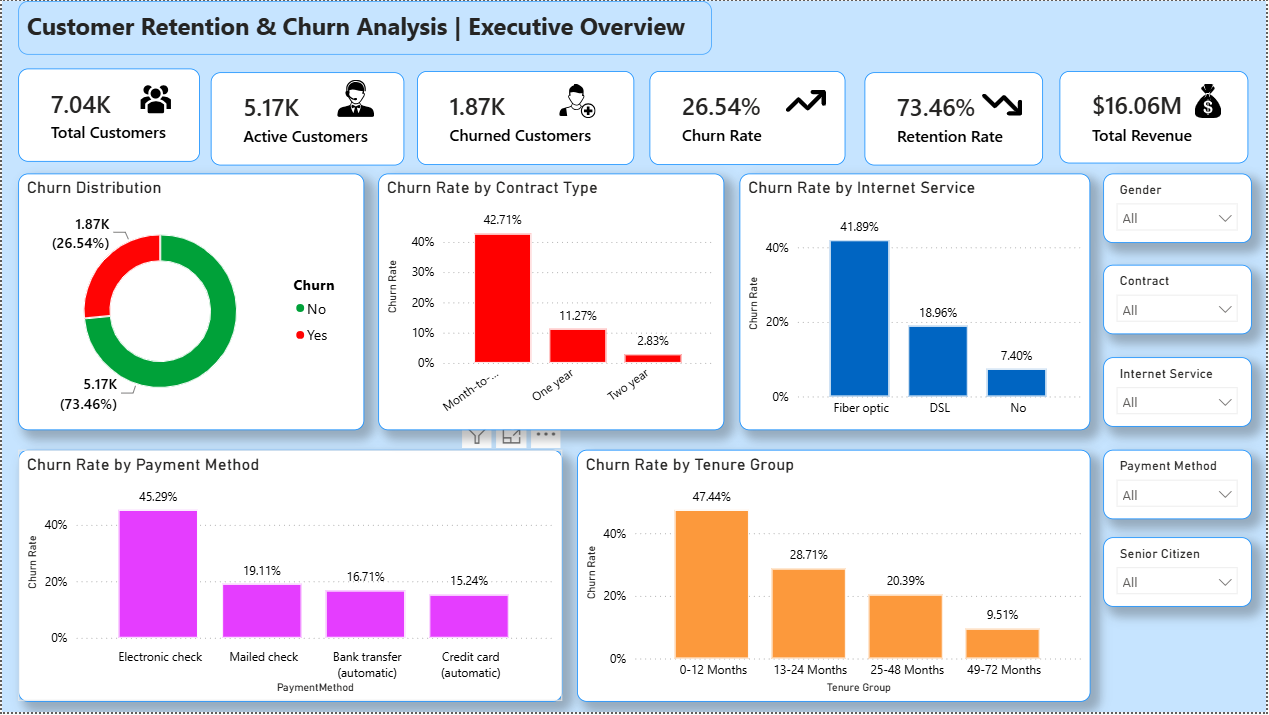

This screenshot's page, from the dashboard's own definition file:
{"tool":"powerbi","page":{"name":"Page 1","canvas":[1280,720],"ordinal":0},"visuals":[{"type":"cardVisual","fields":{"Data":["Measures (2).Total Customers"]},"box":[16.2,68.9,183.8,94.6],"z":0},{"type":"cardVisual","fields":{"Data":["Measures (2).Retention Rate"]},"box":[873,71.6,181.1,94.6],"z":1000},{"type":"cardVisual","fields":{"Data":["Measures (2).Churn Rate"]},"box":[656.2,71.2,198.8,95],"z":2000},{"type":"cardVisual","fields":{"Data":["Measures (2).Churned Customers"]},"box":[420,71.2,220,95],"z":3000},{"type":"cardVisual","fields":{"Data":["Measures (2).Active Customers"]},"box":[210.8,71.6,195.9,94.6],"z":4000},{"type":"cardVisual","fields":{"Data":["Measures (2).Total Revenue"]},"box":[1071.2,71.2,191.2,93.8],"z":5000},{"type":"donutChart","title":"Churn Distribution","fields":{"Y":["Measures (2).Total Customers"],"Category":["Telco Customer Churn.Churn"]},"box":[16.2,174.3,350,260],"z":6000},{"type":"columnChart","title":"Churn Rate by Payment Method","fields":{"Category":["Telco Customer Churn.PaymentMethod"],"Y":["Measures (2).Churn Rate"]},"box":[16.2,454.1,551.4,255.4],"z":7000},{"type":"columnChart","title":"Churn Rate by Contract Type","fields":{"Category":["Telco Customer Churn.Contract"],"Y":["Measures (2).Churn Rate"]},"box":[381.1,174.3,350,260],"z":8000},{"type":"columnChart","title":"Churn Rate by Internet Service","fields":{"Category":["Telco Customer Churn.InternetService"],"Y":["Measures (2).Churn Rate"]},"box":[747.3,174.3,355,260],"z":9000},{"type":"columnChart","fields":{"Y":["Measures (2).Churn Rate"],"Category":["Telco Customer Churn.Tenure Group"]},"box":[582.4,454.1,520.3,255.4],"z":10000},{"type":"textbox","box":[16.2,0,702.7,54.1],"z":11000},{"type":"slicer","fields":{"Values":["Telco Customer Churn.gender"]},"box":[1114.9,174.3,150,70],"z":12000},{"type":"slicer","fields":{"Values":["Telco Customer Churn.Contract"]},"box":[1114.9,267.6,150,70],"z":13000},{"type":"slicer","fields":{"Values":["Telco Customer Churn.InternetService"]},"box":[1114.9,360.8,150,70],"z":14000},{"type":"slicer","fields":{"Values":["Telco Customer Churn.PaymentMethod"]},"box":[1114.9,454.1,150,70],"z":15000},{"type":"slicer","fields":{"Values":["Telco Customer Churn.Senior Citizen Label"]},"box":[1114.9,543.2,150,70],"z":16000},{"type":"image","box":[132.4,78.4,45.9,40.5],"z":17000},{"type":"image","box":[335.1,79.7,45.9,37.8],"z":18000},{"type":"image","box":[793.2,83.8,40.5,35.1],"z":19000},{"type":"image","box":[991.9,87.8,40.5,35.1],"z":20000},{"type":"image","box":[1201.4,83.8,40.5,35.1],"z":21000},{"type":"image","box":[559.5,83.8,45.9,35.1],"z":22000}]}

Visuals, with their boxes in screenshot pixels (x1, y1, x2, y2), scaled from the page's 1280x720 canvas onto the 1269x715 screenshot:
cardVisual - Measures (2).Total Customers: 16/68/198/162
cardVisual - Measures (2).Retention Rate: 865/71/1045/165
cardVisual - Measures (2).Churn Rate: 651/71/848/165
cardVisual - Measures (2).Churned Customers: 416/71/634/165
cardVisual - Measures (2).Active Customers: 209/71/403/165
cardVisual - Measures (2).Total Revenue: 1062/71/1252/164
"Churn Distribution" donutChart: 16/173/363/431
"Churn Rate by Payment Method" columnChart: 16/451/563/705
"Churn Rate by Contract Type" columnChart: 378/173/725/431
"Churn Rate by Internet Service" columnChart: 741/173/1093/431
columnChart - Measures (2).Churn Rate x Telco Customer Churn.Tenure Group: 577/451/1093/705
textbox: 16/0/713/54
slicer - Telco Customer Churn.gender: 1105/173/1254/243
slicer - Telco Customer Churn.Contract: 1105/266/1254/335
slicer - Telco Customer Churn.InternetService: 1105/358/1254/428
slicer - Telco Customer Churn.PaymentMethod: 1105/451/1254/520
slicer - Telco Customer Churn.Senior Citizen Label: 1105/539/1254/609
image: 131/78/177/118
image: 332/79/378/117
image: 786/83/827/118
image: 983/87/1024/122
image: 1191/83/1231/118
image: 555/83/600/118
